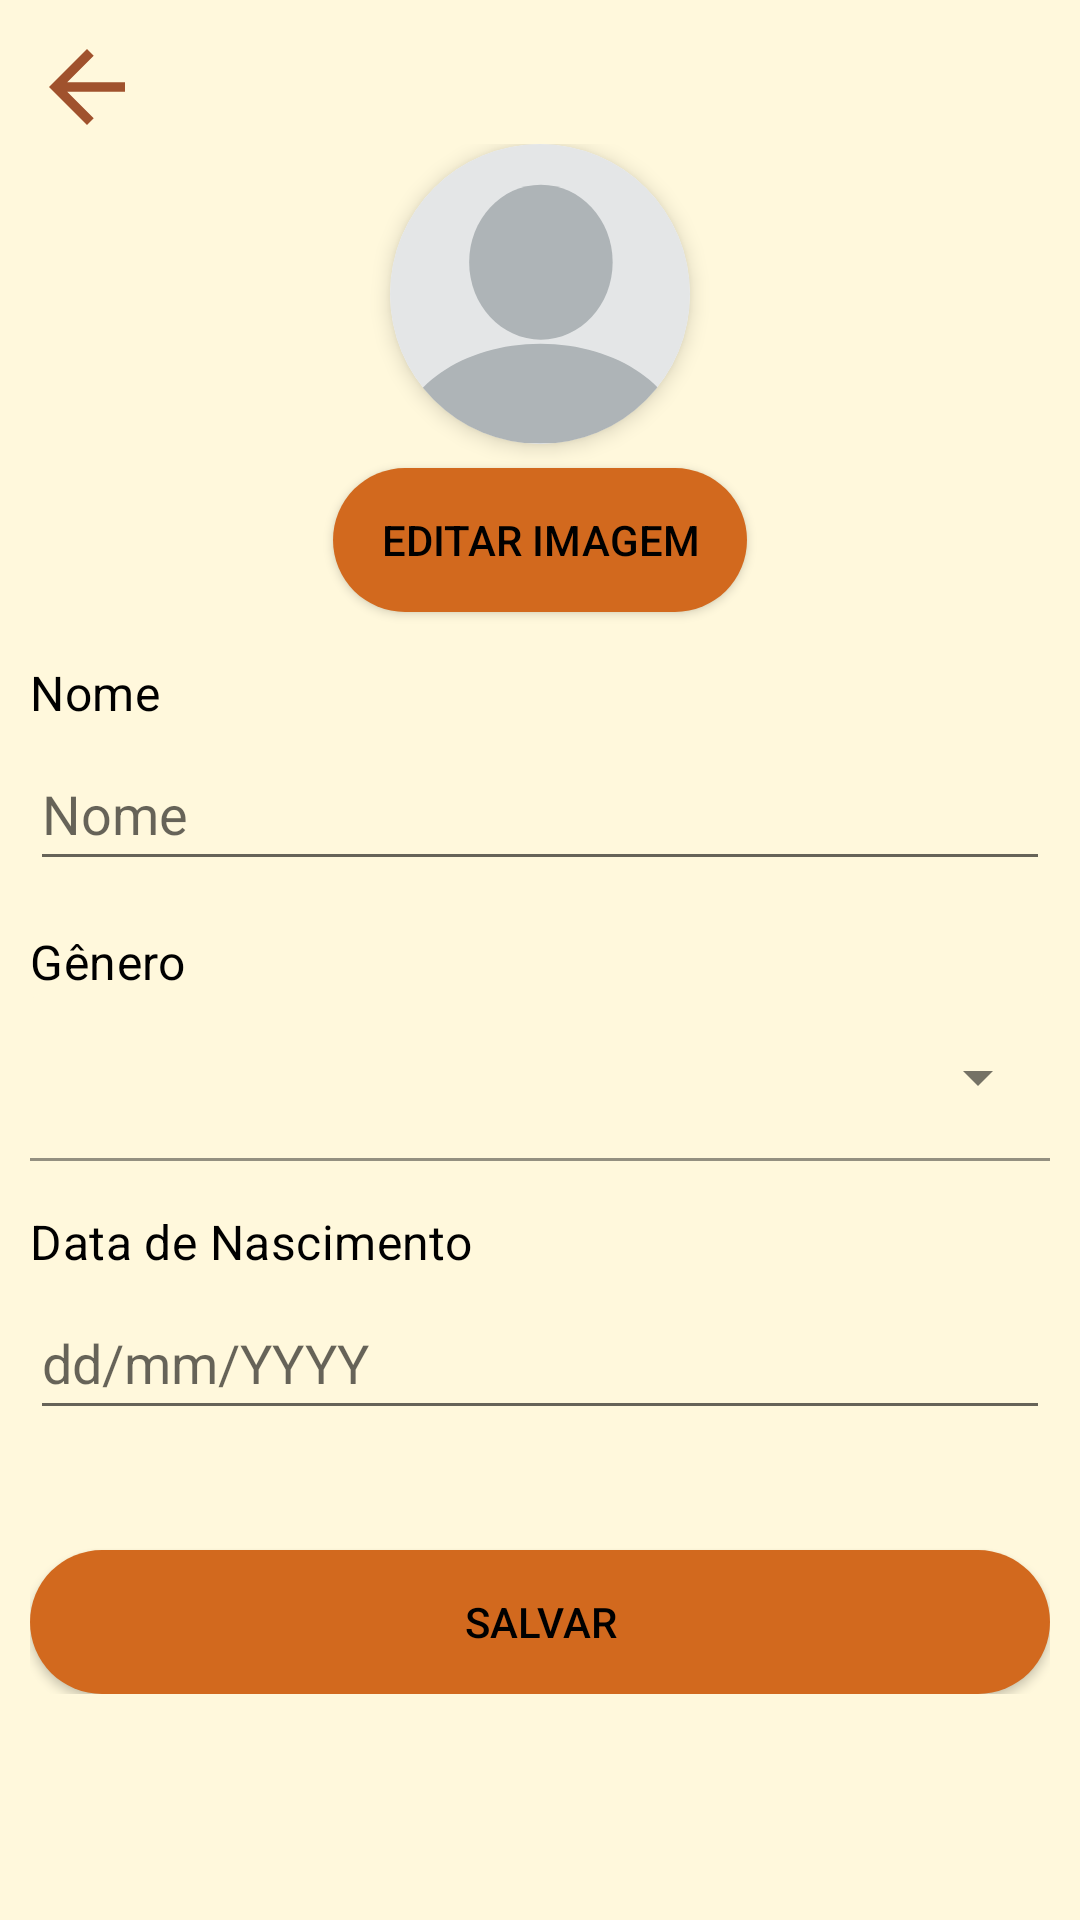

Where to tap for icons on this 1080×1920 app screen, as (x=x, y=y):
Imagem de perfil: (x=540, y=294)
Voltar: (x=87, y=87)
